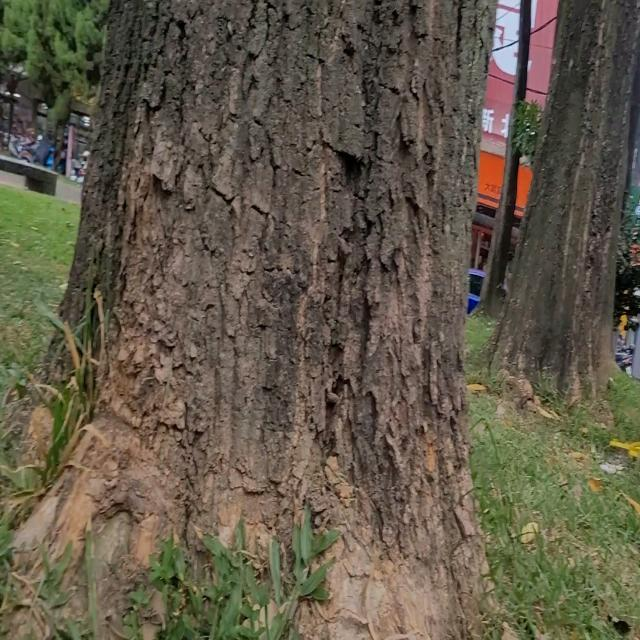Tree: (27, 1, 514, 639), (487, 1, 635, 426)
